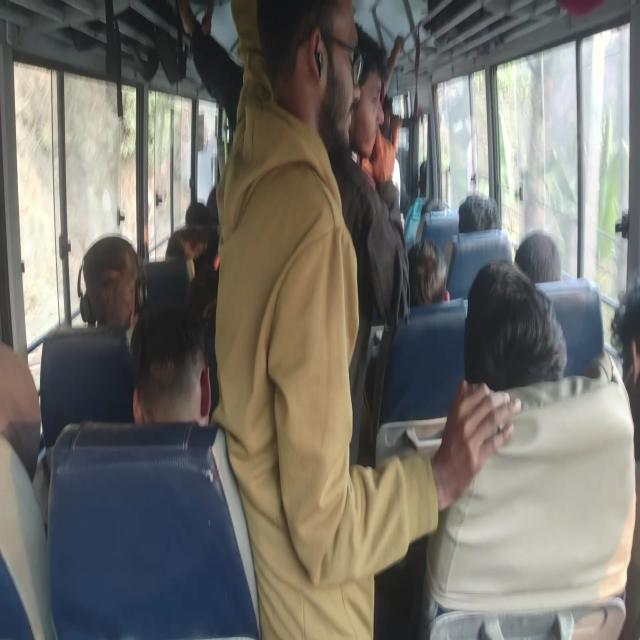person: (468, 238, 562, 438), (257, 2, 360, 158), (133, 314, 220, 468), (0, 330, 43, 625), (598, 285, 640, 461), (80, 218, 133, 334), (348, 0, 382, 158), (400, 237, 456, 323), (510, 227, 557, 289), (451, 192, 497, 237), (168, 232, 202, 281), (378, 92, 411, 142), (174, 197, 207, 234)
